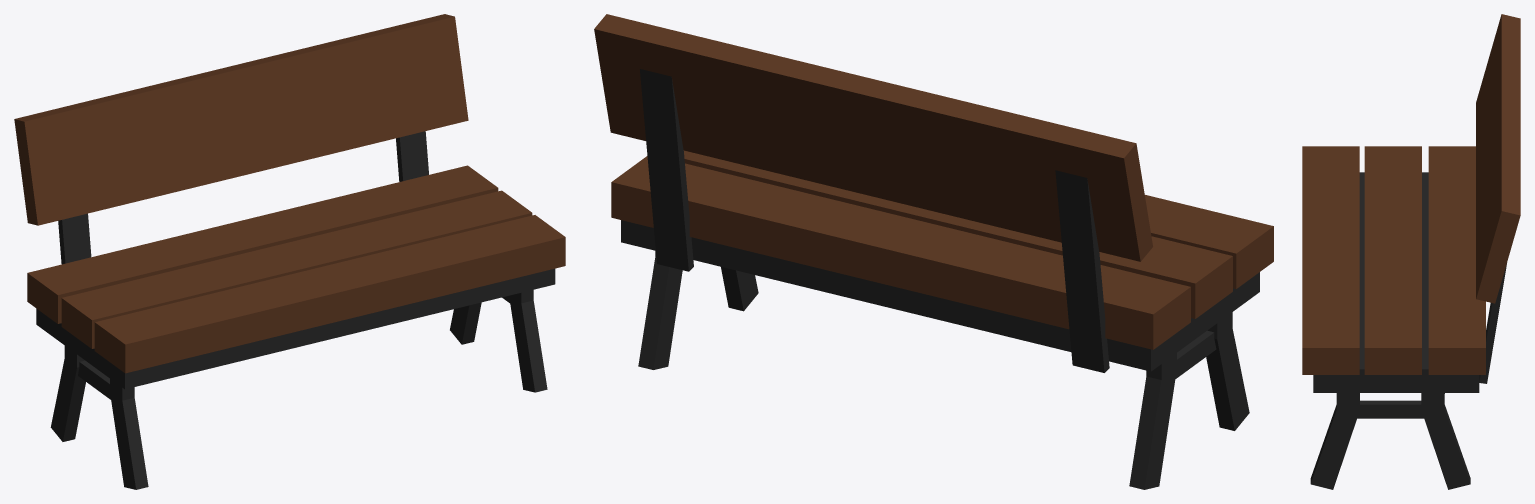
Rendered from park bench final.fbx.
The picture shows the model from 3 angles, left to right: view 1: azimuth 30°, elevation 25°; view 2: azimuth 150°, elevation 25°; view 3: azimuth 270°, elevation 25°; orthographic projection. The views are drawn at different scales.
Parts seen in each view (by area): view 1: Cube.002; view 2: Cube.002; view 3: Cube.002.
Boxes of the visible parts, x1,y1,x2,y2 form: Cube.002: (14, 14, 565, 489); Cube.002: (594, 14, 1273, 489); Cube.002: (1302, 14, 1520, 489).
Bounding box in the file's own units: 845 × 554 × 387.
